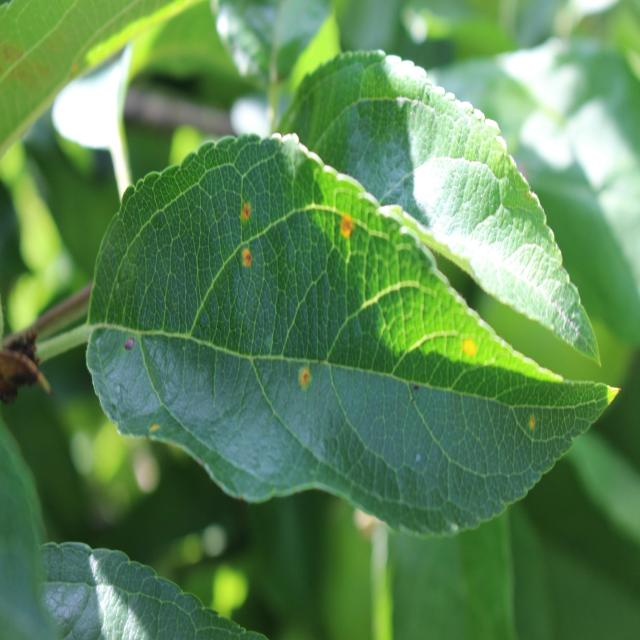Rust: (331, 198, 361, 266), (289, 348, 319, 406), (451, 325, 488, 369), (132, 412, 174, 448), (516, 400, 548, 447), (234, 188, 257, 231), (234, 242, 259, 279)
